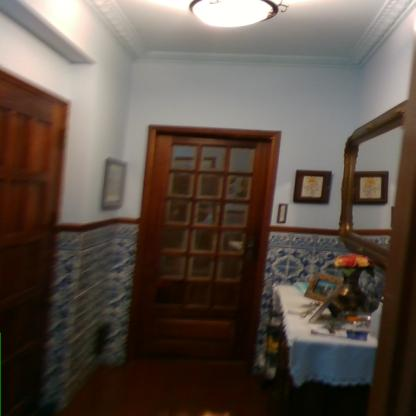closed: (122, 116, 285, 376)
